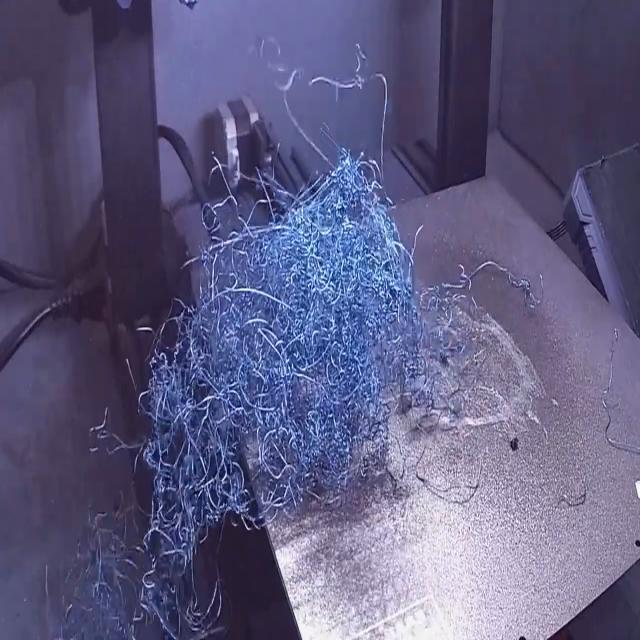spaghetti: (44, 39, 480, 640)
